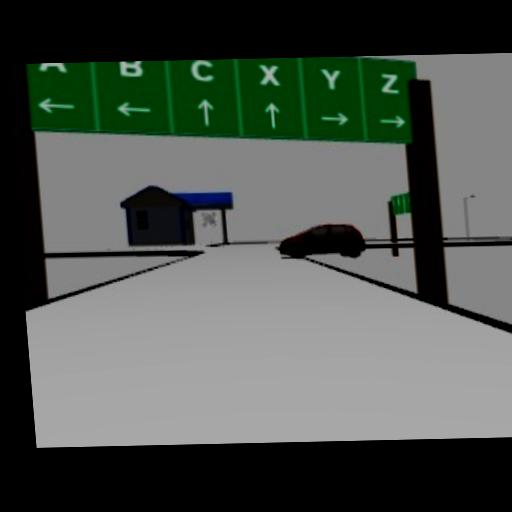A: (37, 62, 66, 72)
B: (118, 61, 144, 77)
C: (188, 59, 214, 82)
Left: (36, 96, 77, 113), (114, 101, 152, 118)
Right: (319, 109, 351, 126), (378, 114, 405, 129)
Straight: (195, 96, 216, 125), (263, 101, 281, 129)
X: (258, 63, 281, 85)
Y: (319, 68, 341, 90)
Z: (378, 73, 399, 94)
